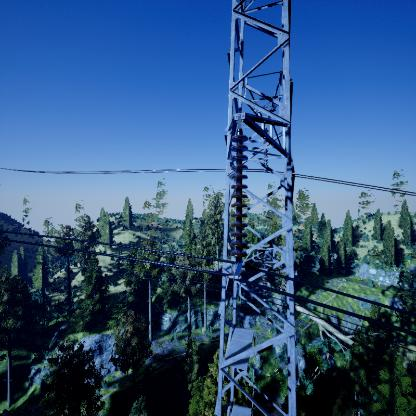insulator: (227, 132, 249, 263)
